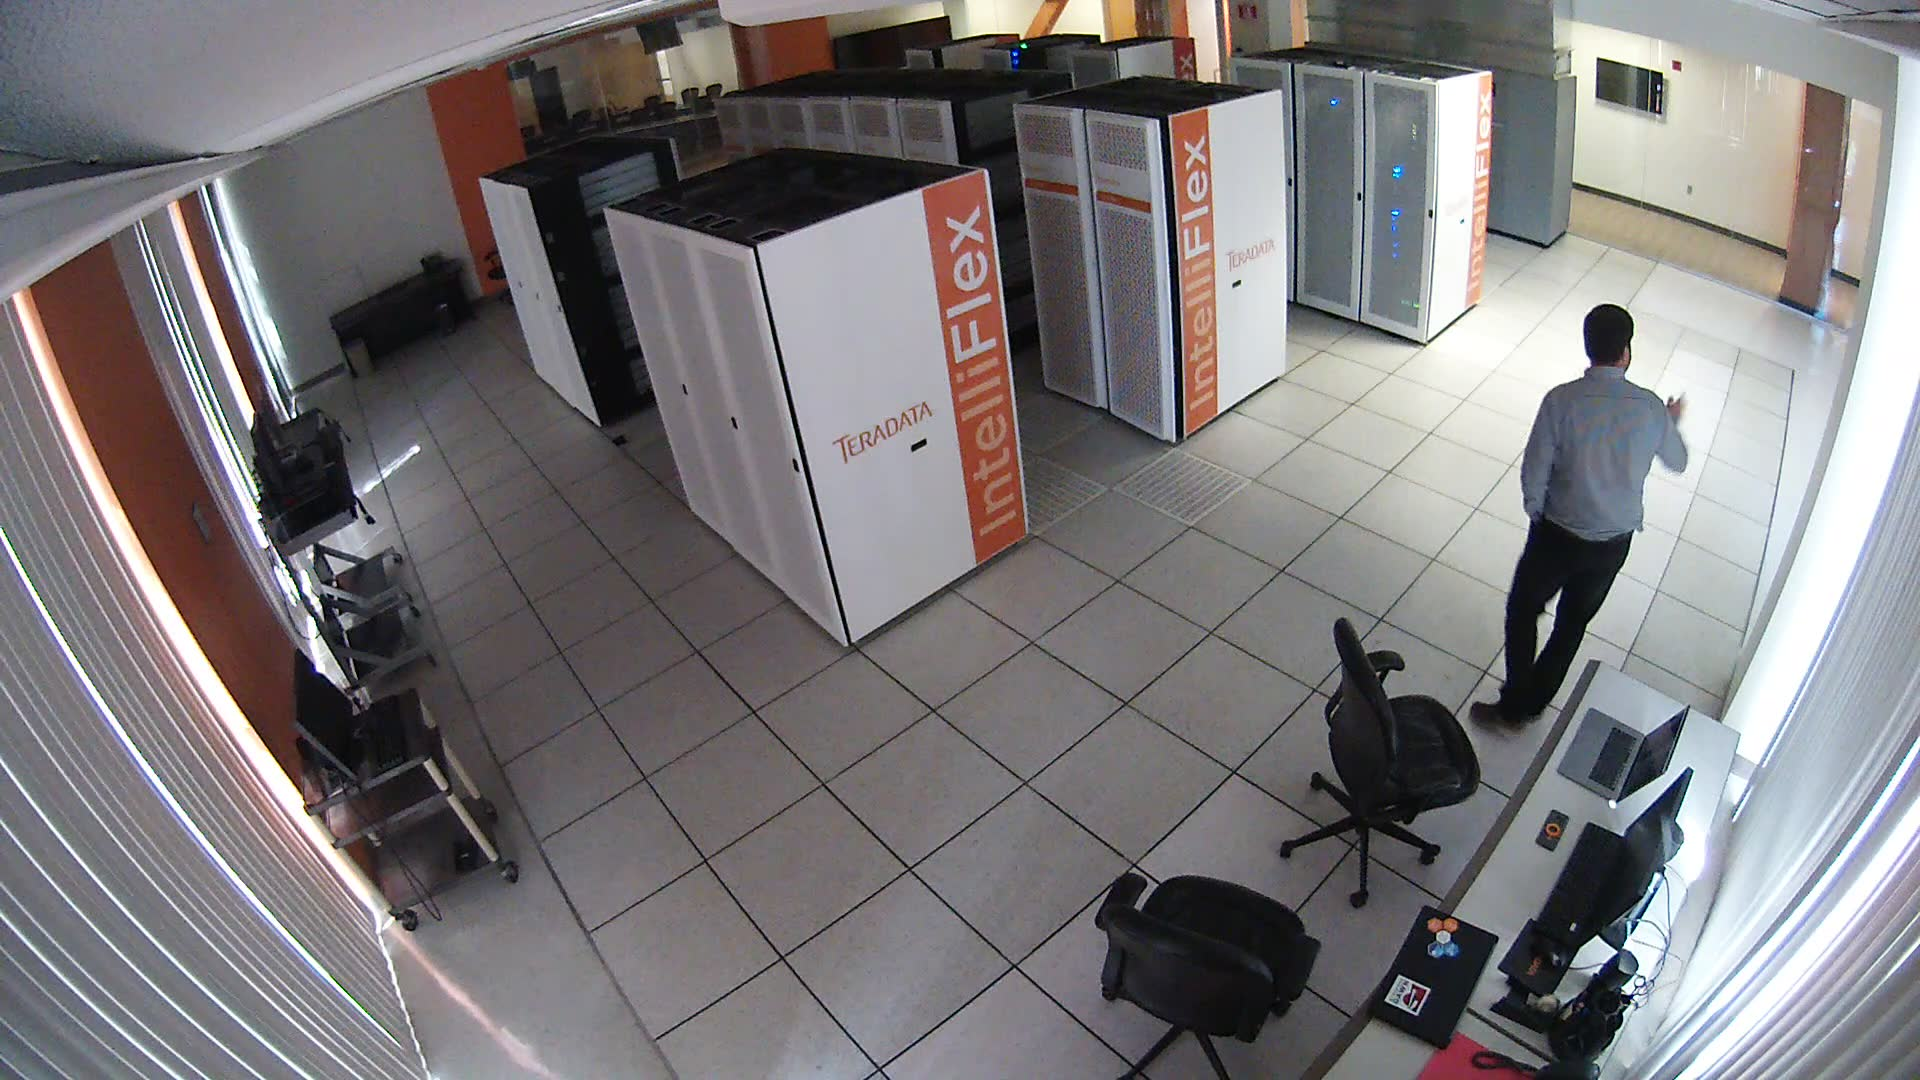person: (1444, 291, 1756, 741)
